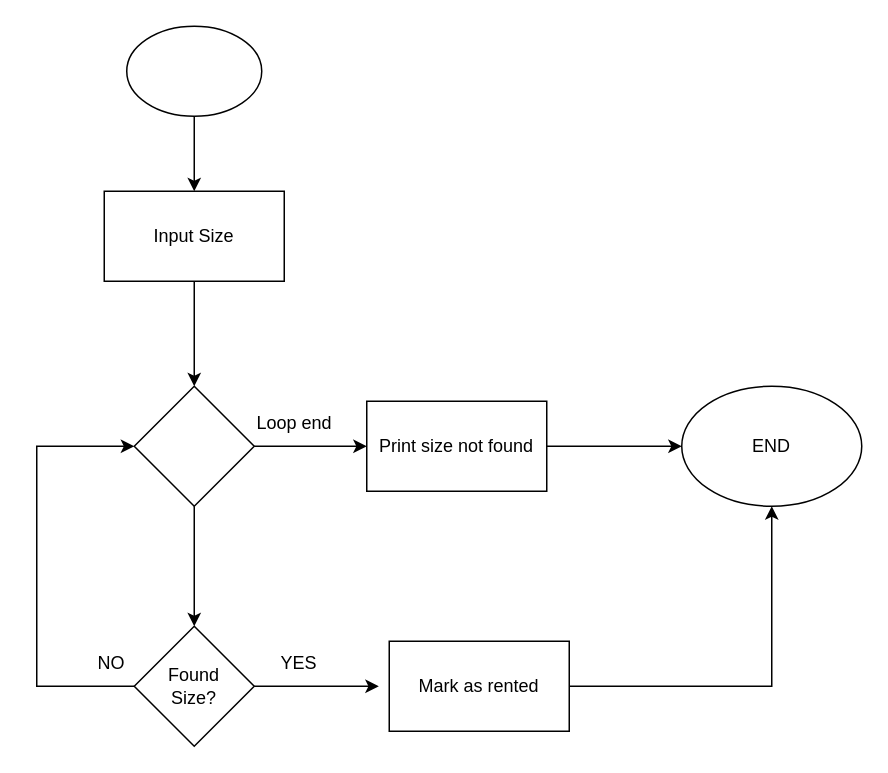
Image size: 888x773. Some labels were removed from this diagram. Here are the shapes that lost their labels. From the top down, the centre of each, then its label:
(x=193, y=70): START
(x=193, y=445): Loop on Shoes
